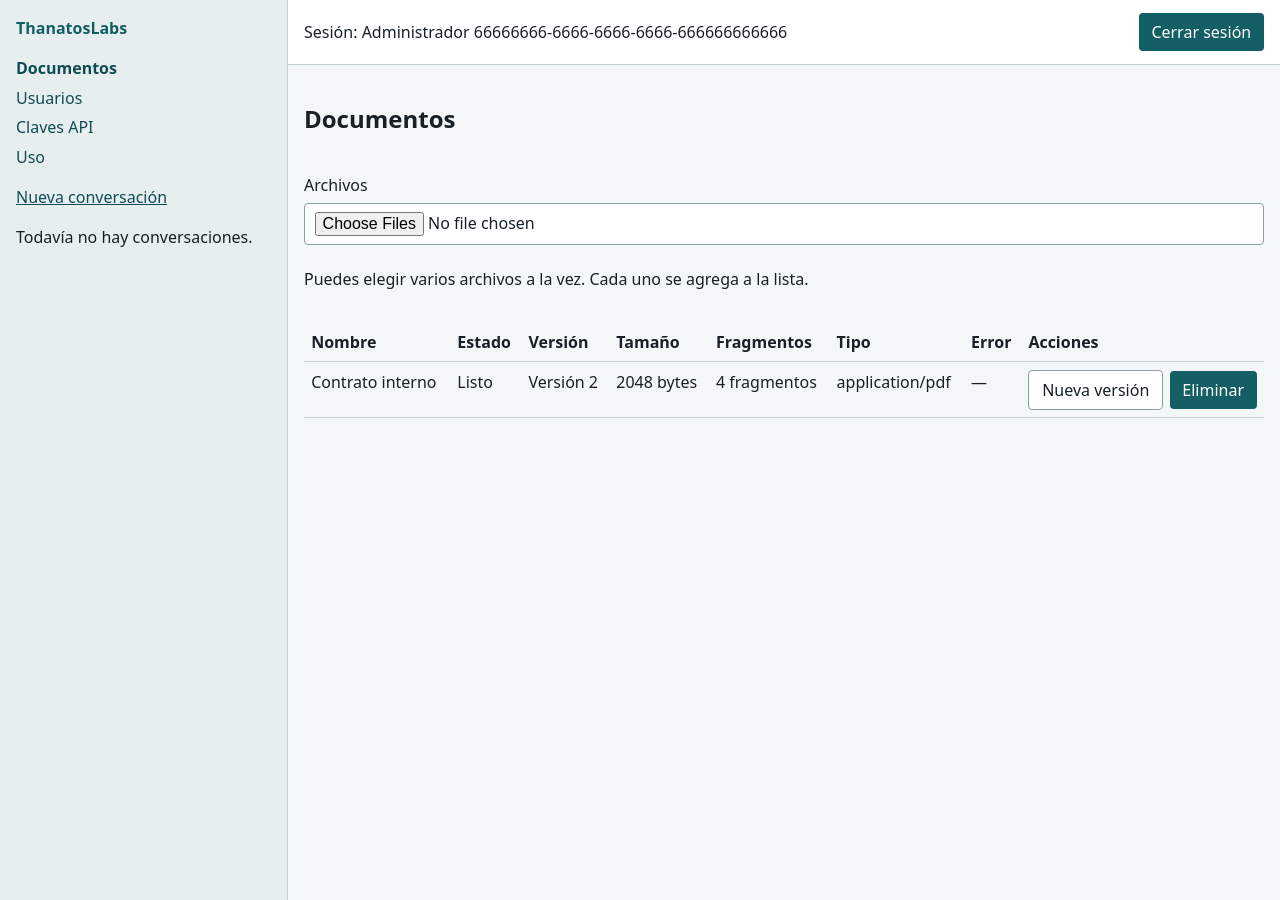
Test case: cerrar la sesión de una empresa suspendida vuelve al acceso
Expected: the text "Contrato interno" is shown, left=304, top=362, right=450, bottom=418
What coordinates should you click on to do the following:
click the button with aria-label "Eliminar Contrato interno"
I would click on:
 (1213, 390)
Its box is left=1170, top=370, right=1257, bottom=409.
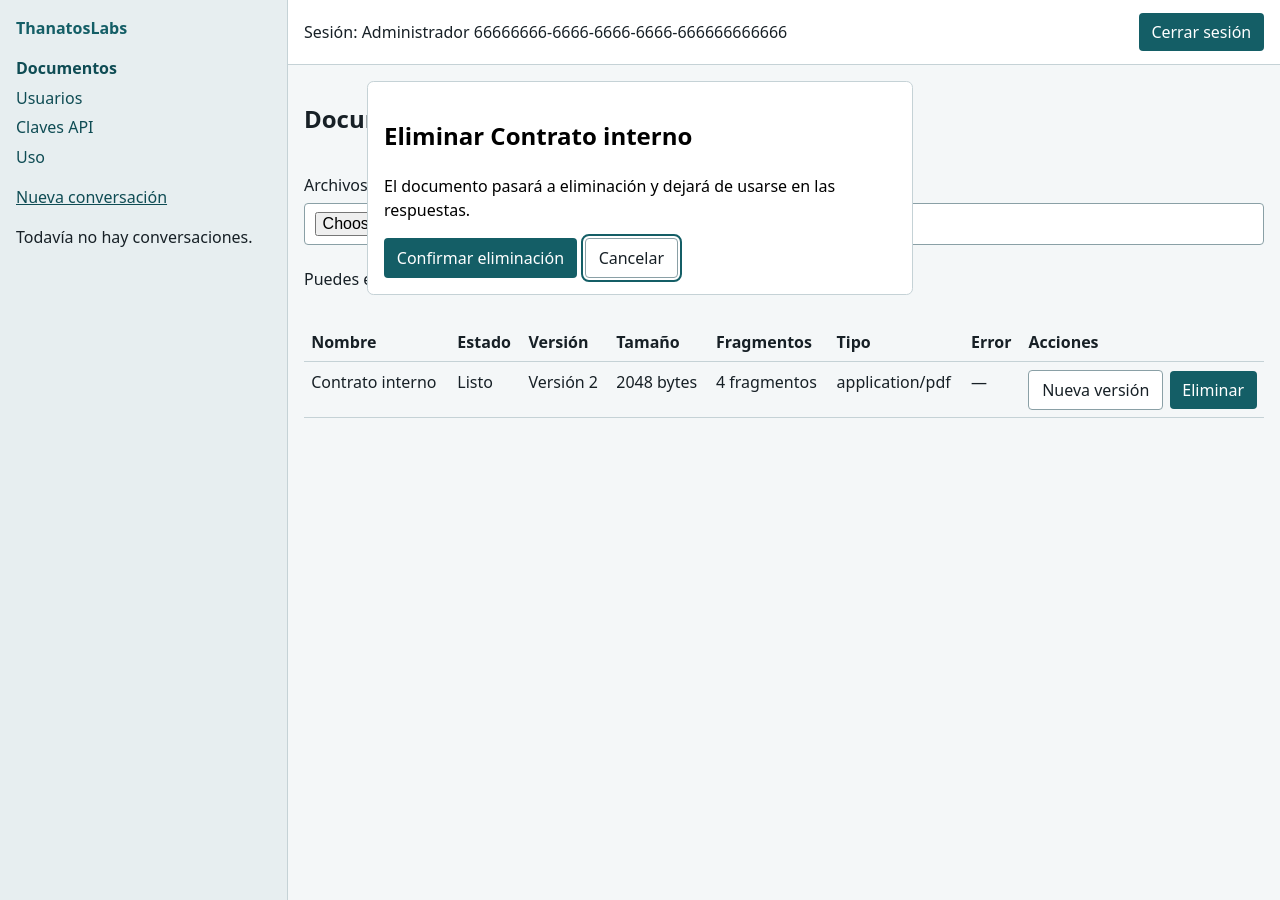
What coordinates should you click on to do the following:
click the button "Confirmar eliminación"
I would click on:
 (480, 258)
Its box is left=384, top=238, right=577, bottom=278.
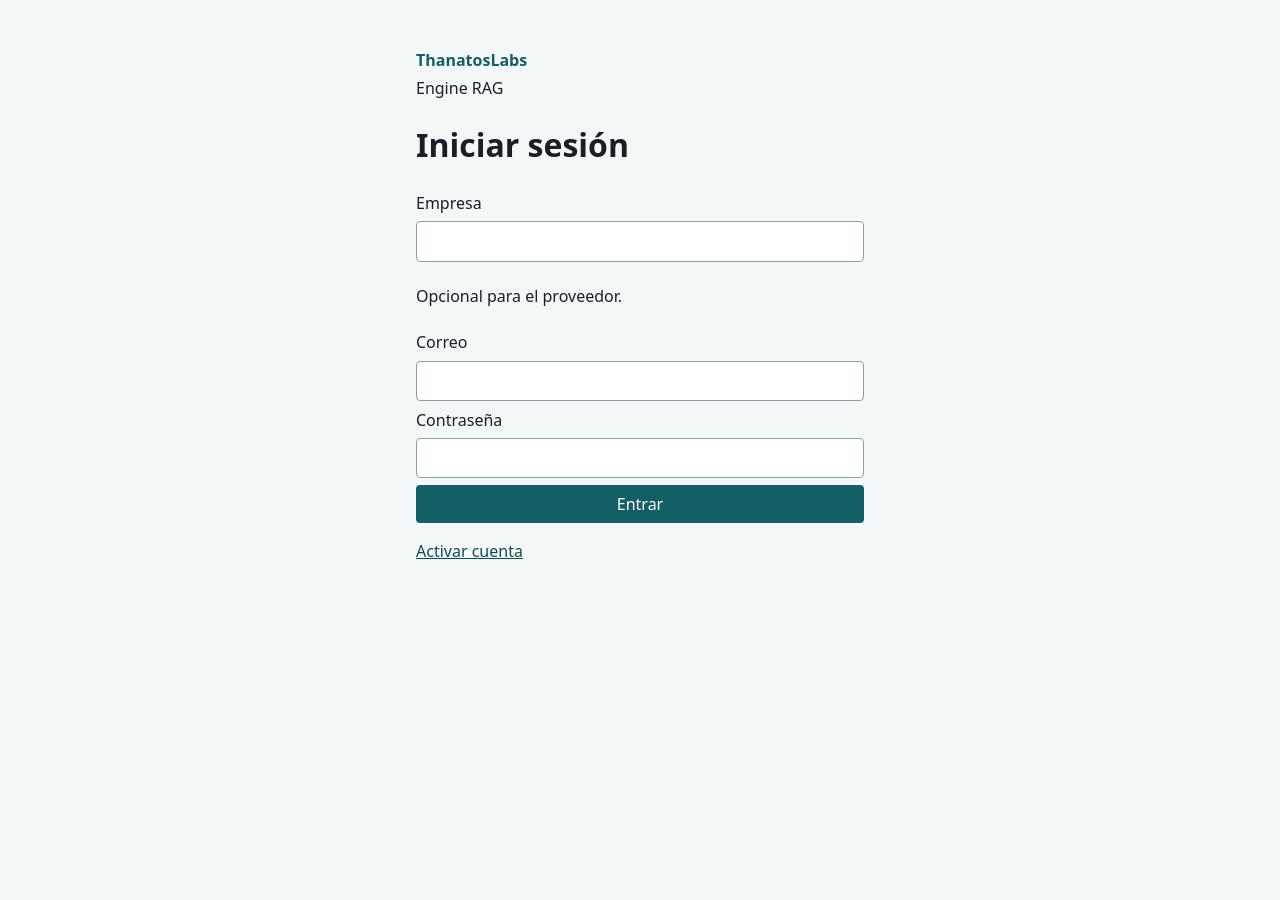
Expected: the heading "Iniciar sesión" is shown, left=416, top=123, right=629, bottom=166
Expected: the text "Contrato interno" is gone
